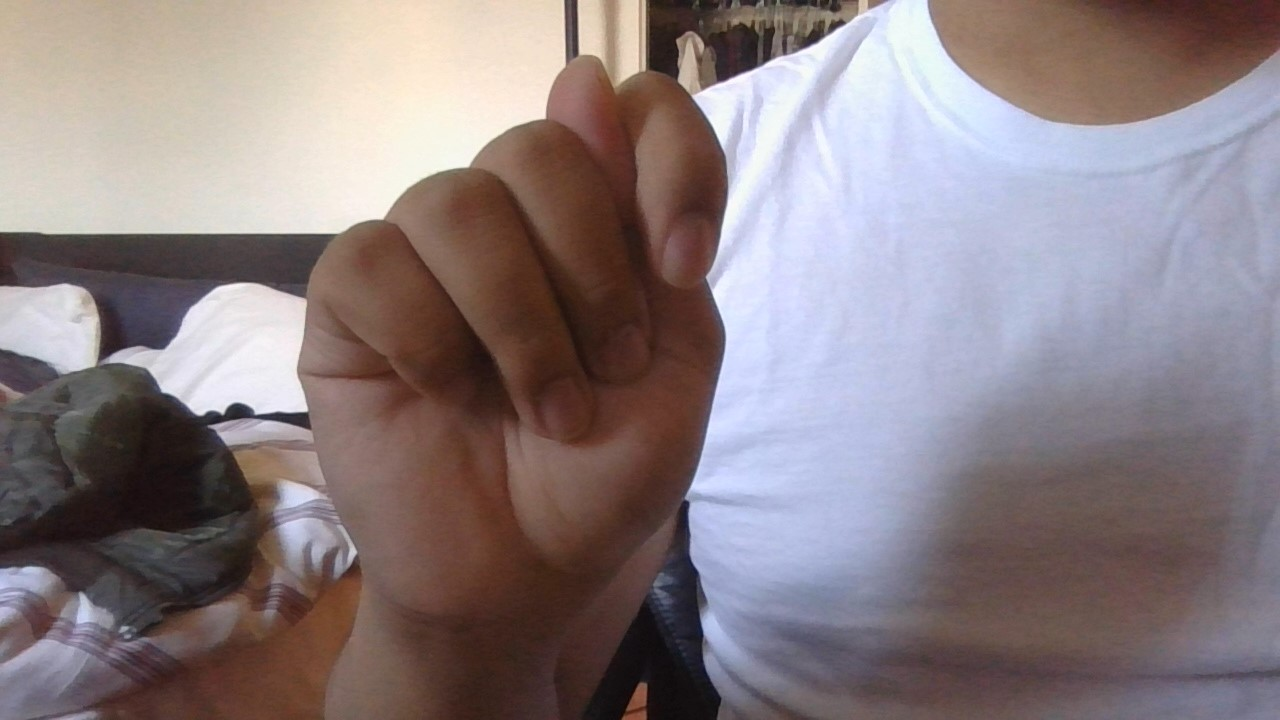t: (263, 41, 761, 609)
